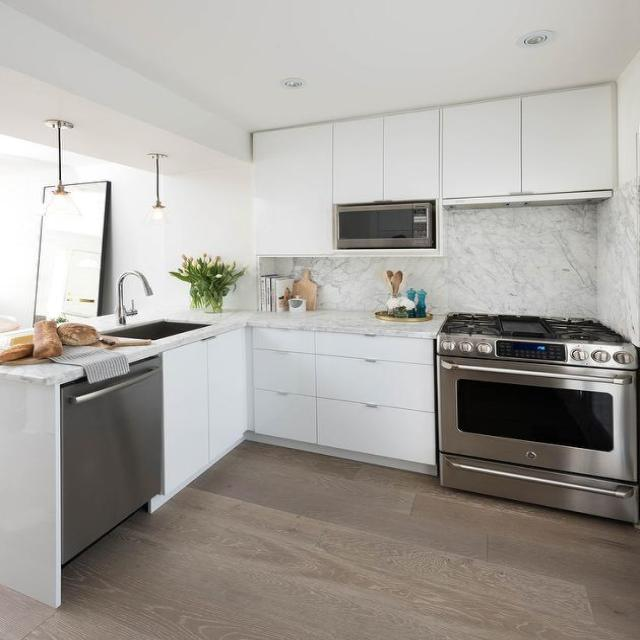dishwasher: (56, 351, 170, 570)
